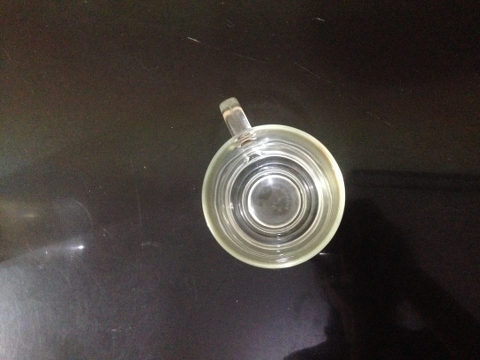tempat minum: (201, 96, 346, 269)
